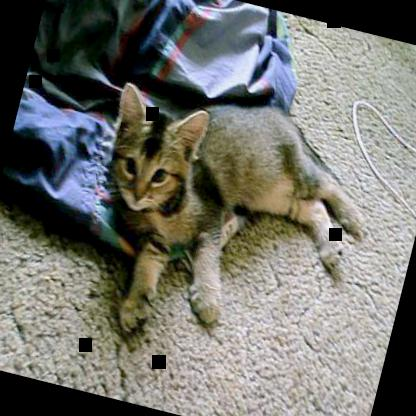cat: (66, 68, 390, 383)
